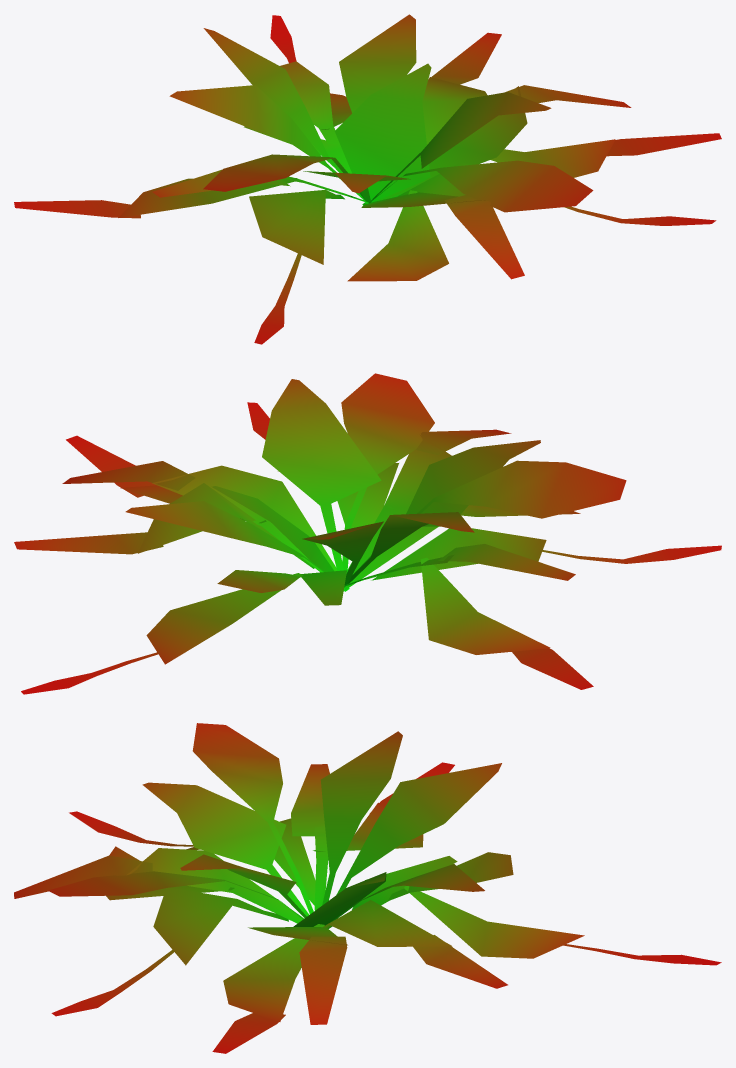
Rendered from Var4_LOD3.fbx.
3 renders of one model, top to bottom at view 1: azimuth 30°, elevation 25°; view 2: azimuth 150°, elevation 25°; view 3: azimuth 270°, elevation 25°, orthographic. The views are drawn at different scales.
Visible parts, largest first — view 1: _60de_Var4_LOD3; view 2: _60de_Var4_LOD3; view 3: _60de_Var4_LOD3.
Boxes of the visible parts, x1,y1,x2,y2 form: _60de_Var4_LOD3: [14, 14, 721, 344]; _60de_Var4_LOD3: [14, 373, 721, 694]; _60de_Var4_LOD3: [14, 723, 721, 1053].
Size of the model in its own units: 78.97 by 16.45 by 79.25.
